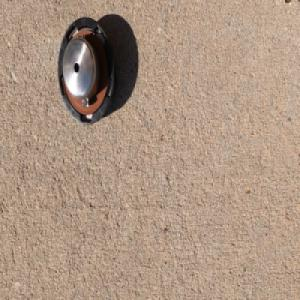FuelCap: (56, 13, 118, 128)
